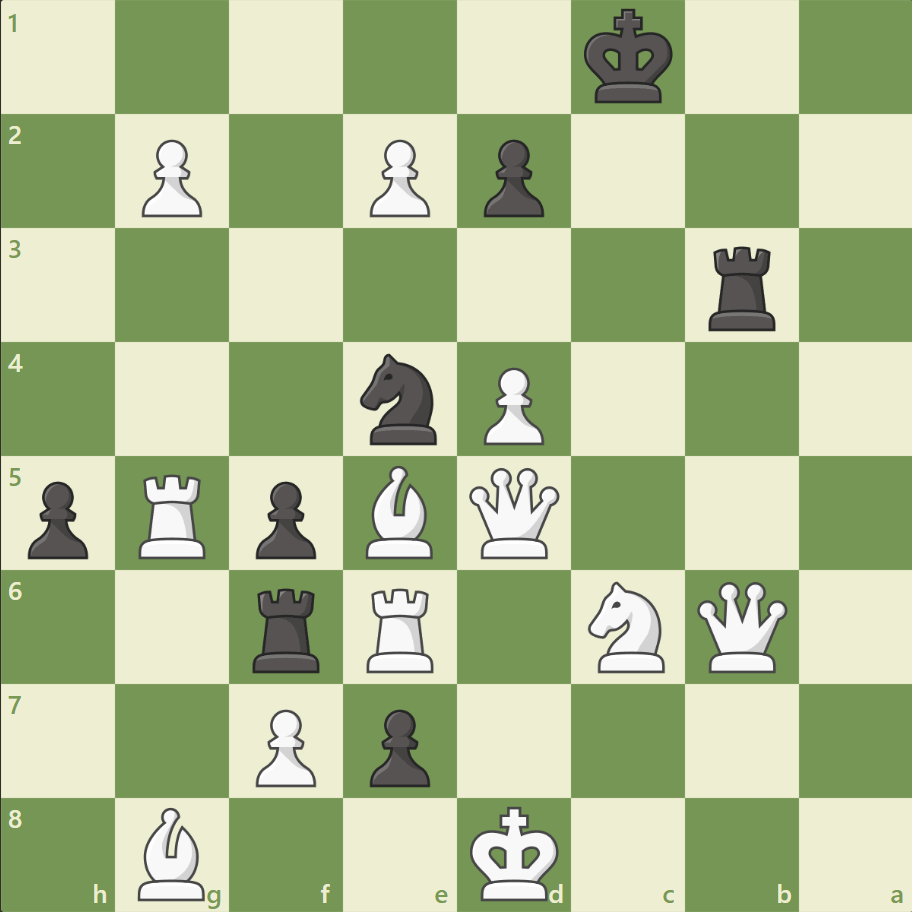B: (131, 801, 215, 904), (358, 460, 442, 563)
K: (465, 798, 565, 906)
N: (579, 575, 676, 677)
P: (247, 700, 322, 791), (474, 359, 549, 450), (133, 132, 208, 223), (361, 132, 435, 223)
Q: (691, 576, 790, 676), (464, 463, 563, 562)
R: (360, 579, 442, 676), (133, 466, 215, 563)
k: (579, 4, 679, 112)
n: (351, 348, 449, 450)
p: (247, 473, 322, 564), (20, 473, 95, 564), (474, 132, 549, 223), (361, 700, 435, 791)
r: (246, 579, 329, 676), (700, 239, 783, 336)
